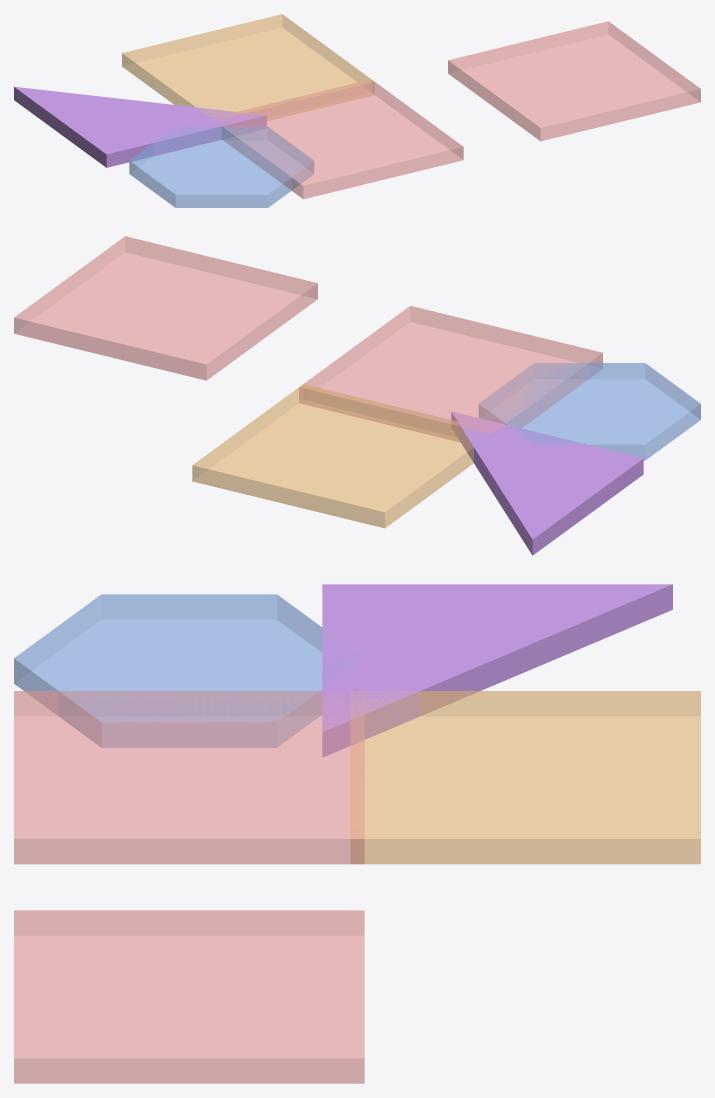
The model's file is treno_step6.glb.
3 views of the same model, one above another, from view 1: azimuth 30°, elevation 25°; view 2: azimuth 150°, elevation 25°; view 3: azimuth 270°, elevation 25° (orthographic). The views are drawn at different scales.
Visible parts, largest first — view 1: quadrato_grande.001, quadrato_grande, quadrato_piccolo, esagono, triangolo_rettangolo; view 2: quadrato_grande.001, quadrato_piccolo, quadrato_grande, esagono, triangolo_rettangolo; view 3: quadrato_grande.001, quadrato_grande, quadrato_piccolo, esagono, triangolo_rettangolo.
Part boxes in pixels (x1,y1,x2,y2): quadrato_grande.001: (448,21,700,141); quadrato_grande: (213,79,463,199); quadrato_piccolo: (122,14,374,120); esagono: (129,126,313,207); triangolo_rettangolo: (14,86,266,167); quadrato_grande.001: (14,236,317,380); quadrato_piccolo: (192,384,473,528); quadrato_grande: (299,306,602,442); esagono: (479,363,700,460); triangolo_rettangolo: (451,411,643,555); quadrato_grande.001: (14,910,364,1083); quadrato_grande: (14,691,364,864); quadrato_piccolo: (350,691,700,864); esagono: (14,594,362,747); triangolo_rettangolo: (322,584,672,757).
Bounding box in the file's own units: 3.2 × 0.08 × 1.96.
